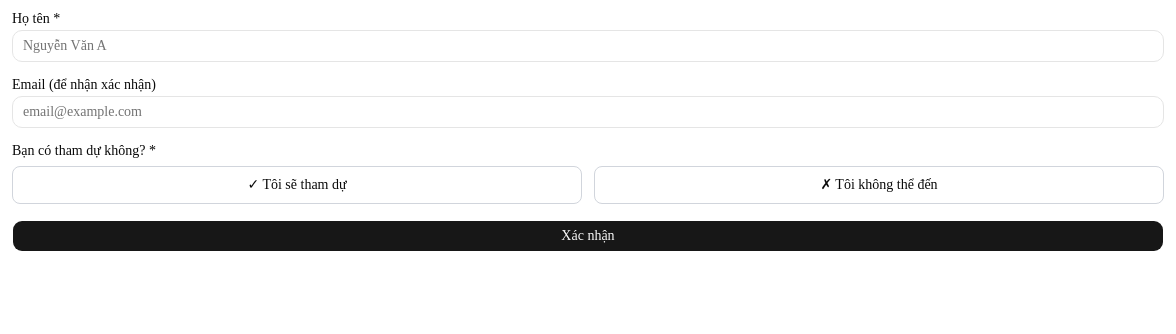
Test case: RSVPForm › shows guest count field only when attending is selected
Expected: the field labelled "số người tham dự" is not shown
Click the button "✓ Tôi sẽ tham dự": coordinates (297, 185) [12,166,582,204]
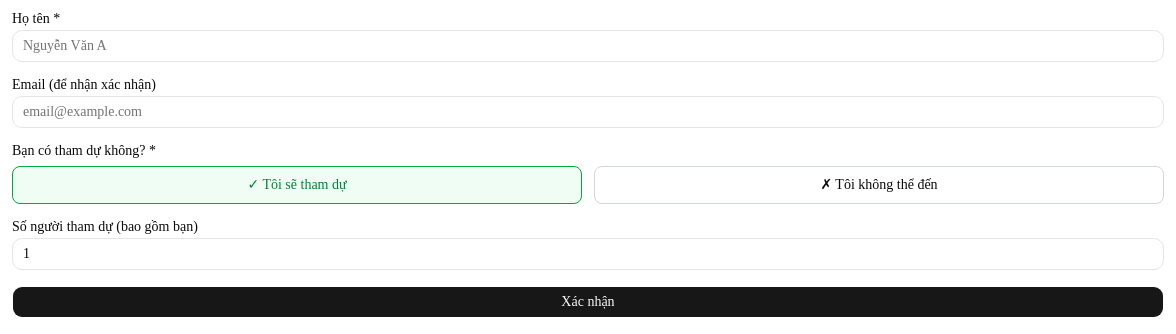
Expected: the number field labelled "Số người tham dự (bao gồm bạn)" is shown, [12,238,1164,270]
